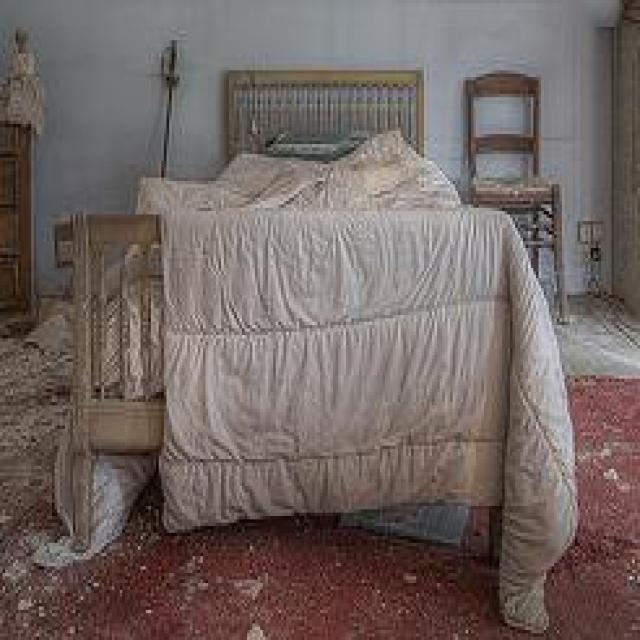bed: (50, 61, 578, 634)
chair: (460, 70, 570, 322)
